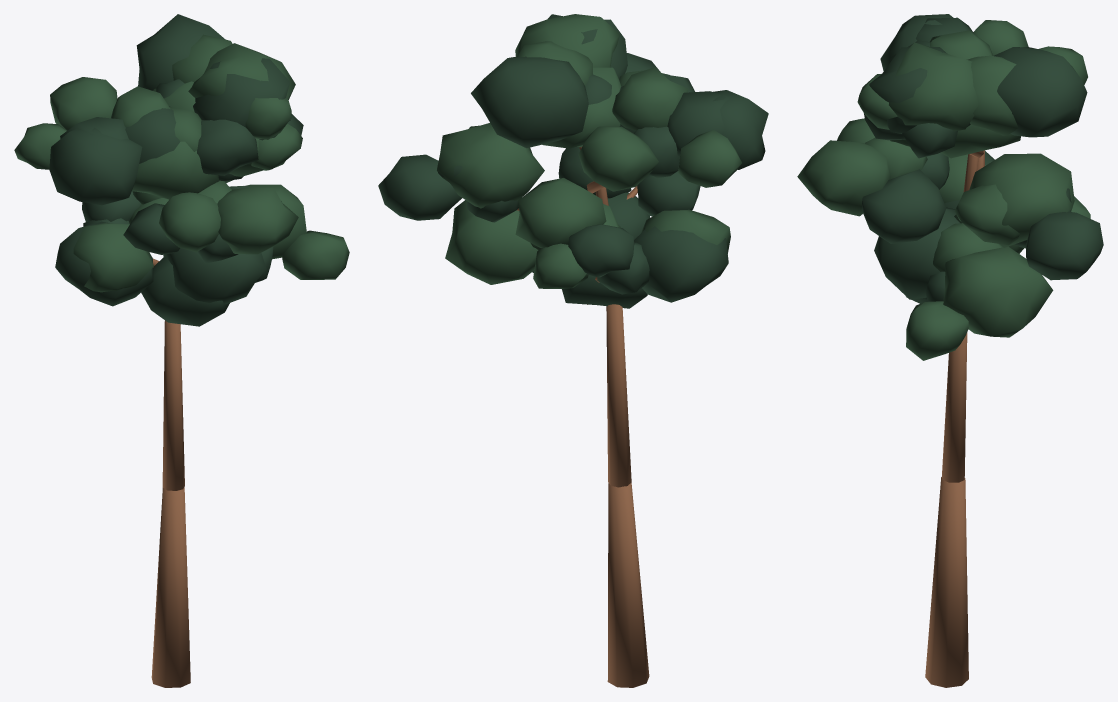
The model's file is node_tree_pine_0.glb.
3 renders of one model, left to right at view 1: azimuth 30°, elevation 25°; view 2: azimuth 150°, elevation 25°; view 3: azimuth 270°, elevation 25°, orthographic. The views are drawn at different scales.
Parts seen in each view (by area): view 1: cyl, blob.025, blob.014, blob.003, blob.010, cyl.001, blob.039, blob.033, blob.024, blob.016, blob.031, blob.001 (+17 smaller); view 2: blob.039, cyl, blob.020, blob.004, blob.009, blob.022, blob.021, cyl.001, blob.028, blob.036, blob.032, blob.007 (+16 smaller); view 3: cyl, blob.004, blob.039, blob.020, blob.032, blob.014, blob.015, blob.021, blob.003, cyl.001, blob, blob.038 (+16 smaller).
Boxes of the visible parts, x1,y1,x2,y2 form: cyl: (151,487,190,687); blob.025: (49,127,142,205); blob.014: (217,187,298,254); blob.003: (163,248,266,304); blob.010: (73,223,153,292); cyl.001: (162,320,184,490); blob.039: (136,14,225,90); blob.033: (193,58,290,127); blob.024: (132,141,218,199); blob.016: (159,192,220,252); blob.031: (197,119,258,175); blob.001: (141,257,229,326); blob.039: (471,56,588,148); cyl: (607,483,649,687); blob.020: (437,123,544,208); blob.004: (445,200,538,284); blob.009: (634,226,728,302); blob.022: (515,178,606,247); blob.021: (378,154,461,220); cyl.001: (606,304,631,487); blob.028: (578,126,658,191); blob.036: (612,67,688,130); blob.032: (515,14,619,67); blob.007: (568,224,634,277); cyl: (925,477,968,687); blob.004: (943,246,1053,337); blob.039: (994,47,1087,137); blob.020: (969,153,1074,247); blob.032: (889,42,978,131); blob.014: (797,140,890,216); blob.015: (861,169,946,243); blob.021: (1026,212,1103,280); blob.003: (874,207,959,299); cyl.001: (942,332,967,482); blob: (906,301,968,360); blob.038: (967,55,1018,135).
Size of the model in its own units: 5.64 by 10.75 by 4.53.
